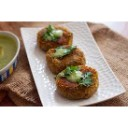cutlet: (53, 69, 103, 97), (33, 24, 79, 49), (47, 47, 87, 68)
